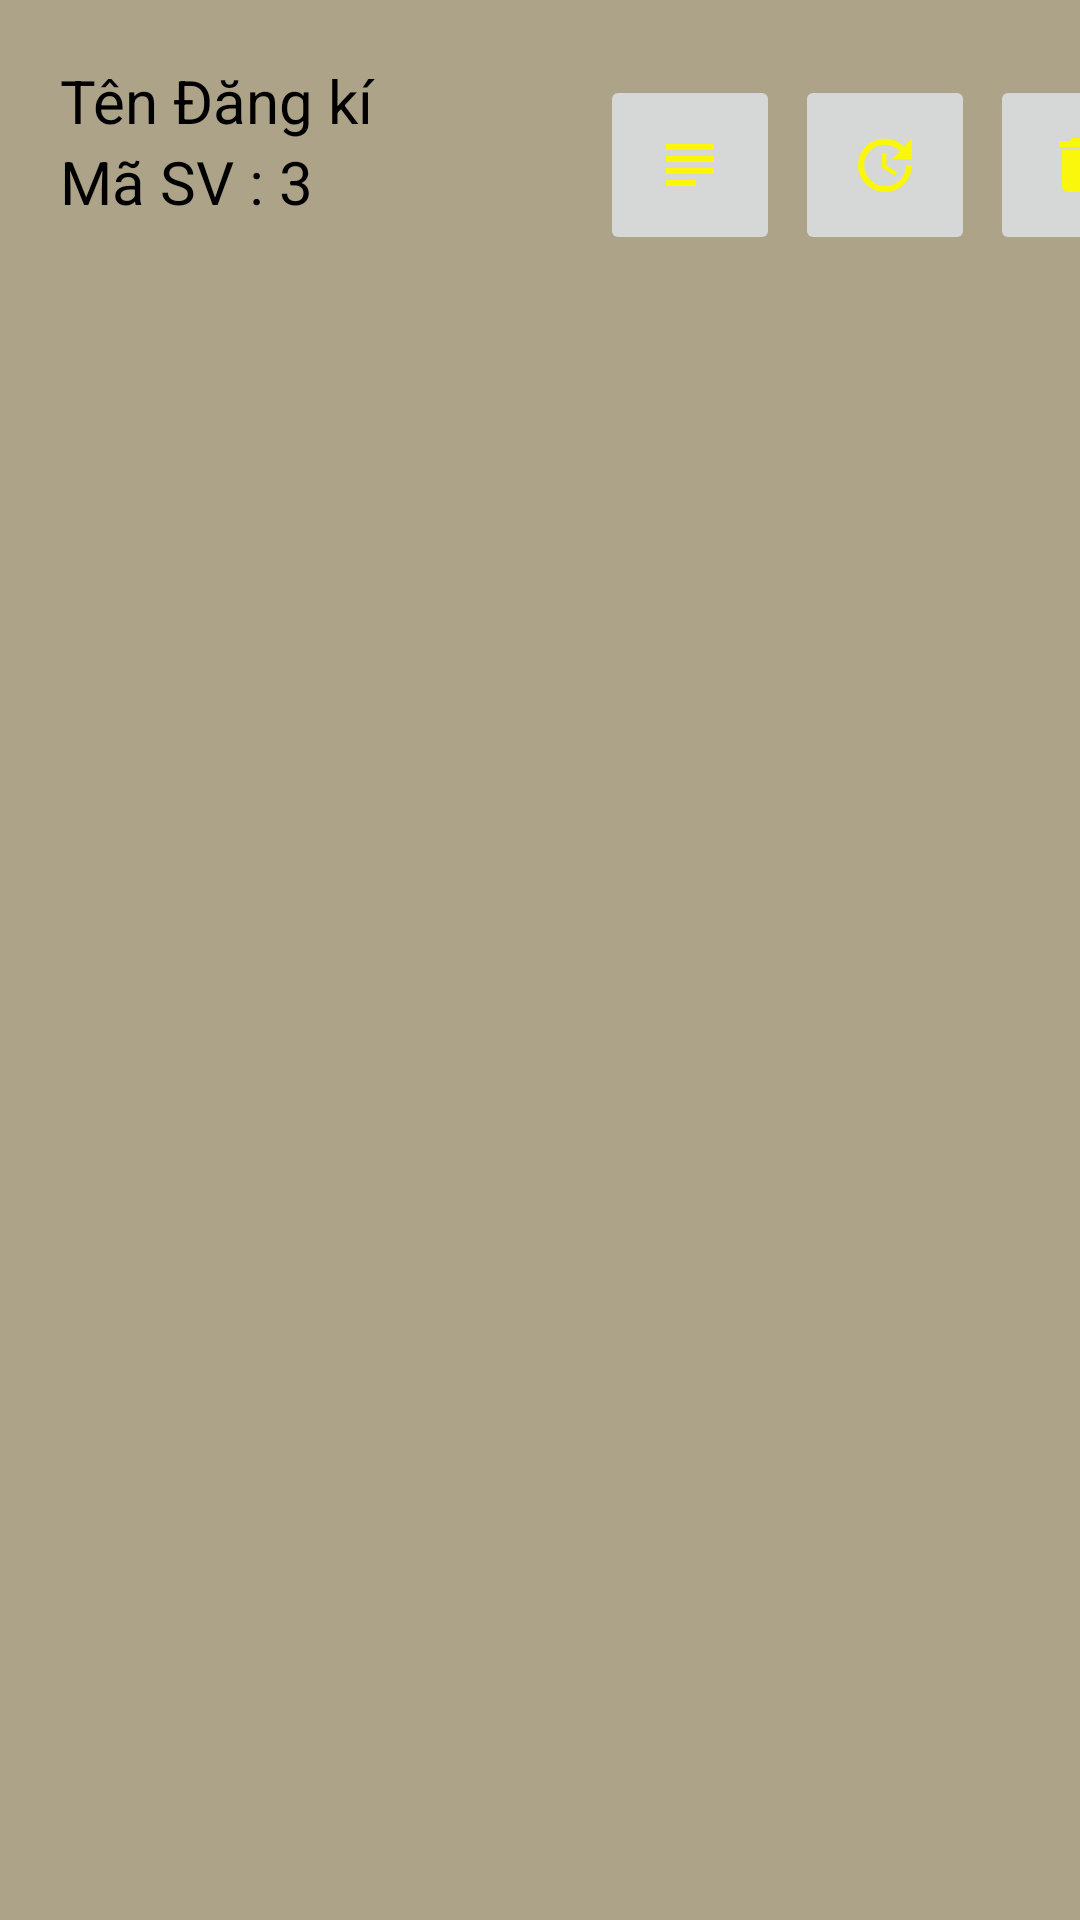

Icon click points for this 1080 × 1920 phone screenshot, format (x,y):
subject: (690,165)
update: (885,165)
